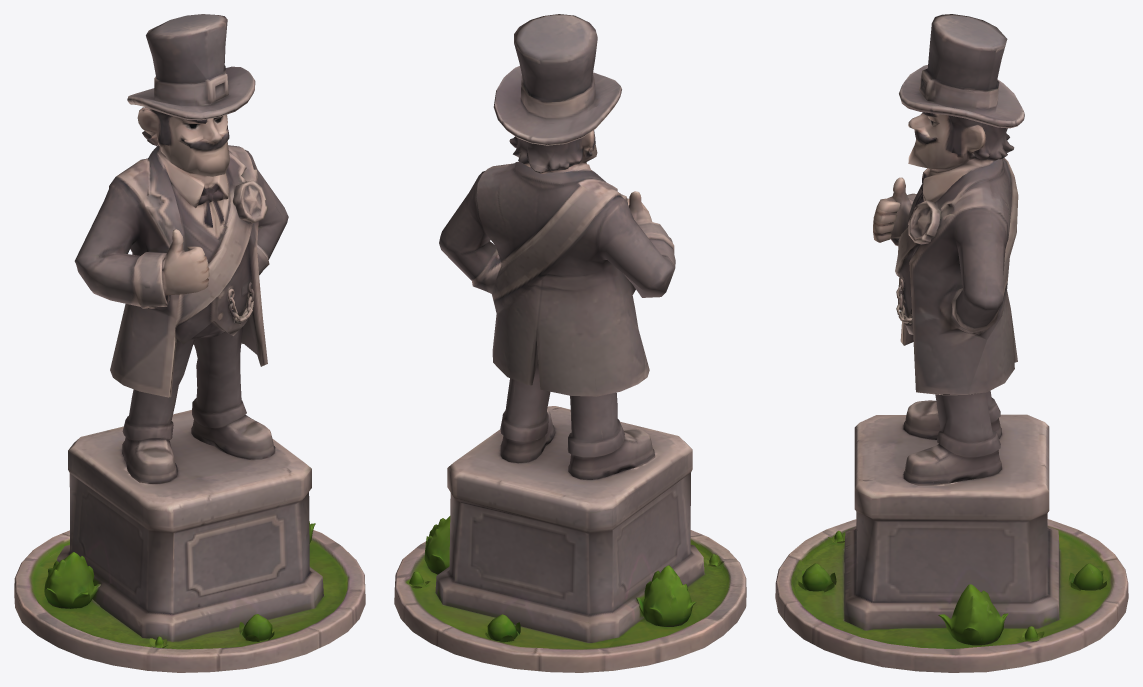
The model's file is monument.glb.
The picture shows the model from 3 angles, left to right: view 1: azimuth 30°, elevation 25°; view 2: azimuth 150°, elevation 25°; view 3: azimuth 270°, elevation 25°; orthographic projection.
Visible parts, largest first — view 1: Monument; view 2: Monument; view 3: Monument.
Part boxes in pixels (left/top/right/bottom): Monument: left=14, top=14, right=365, bottom=672; Monument: left=394, top=14, right=746, bottom=672; Monument: left=775, top=14, right=1128, bottom=672.
Size of what is drawn, in the model's own units: 5.55 by 10 by 5.52.
1 material, 1 textured.
